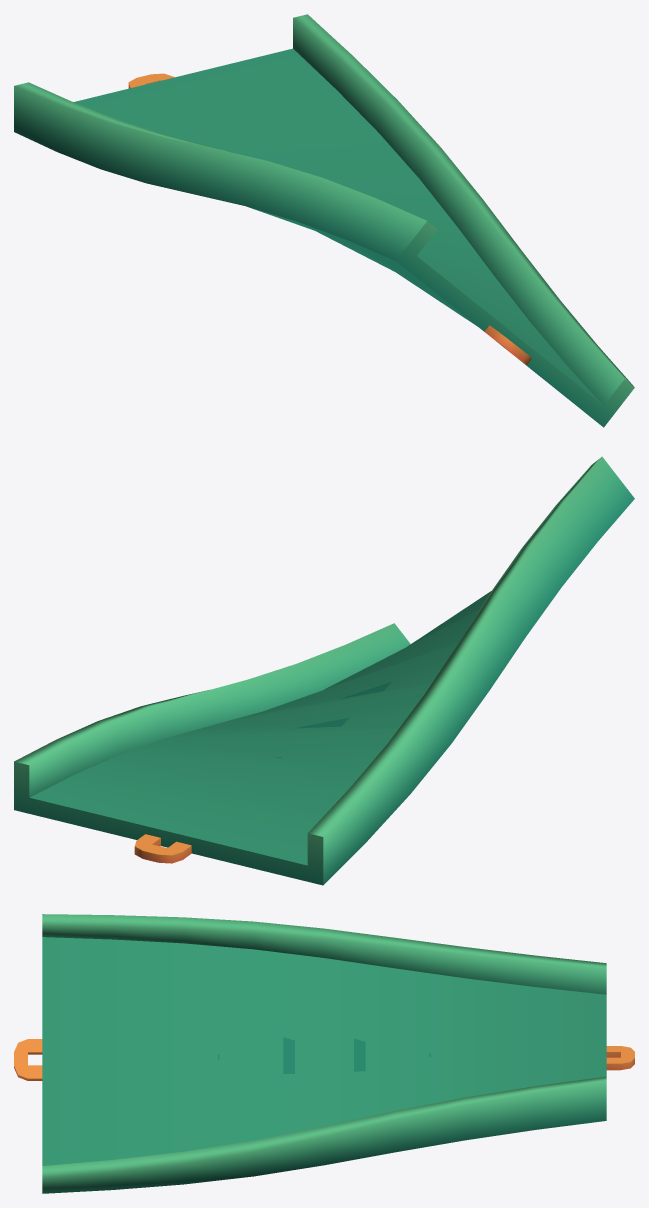
Rendered from track-wide-straight-skew-left.fbx.
3 views of the same model, one above another, from view 1: azimuth 30°, elevation 25°; view 2: azimuth 150°, elevation 25°; view 3: azimuth 270°, elevation 25° (orthographic). The views are drawn at different scales.
Parts seen in each view (by area): view 1: track-wide-straight-skew-left; view 2: track-wide-straight-skew-left; view 3: track-wide-straight-skew-left.
Part boxes in pixels (box(x1,y1,x2,y2)): track-wide-straight-skew-left: box(14, 14, 634, 427); track-wide-straight-skew-left: box(14, 456, 634, 885); track-wide-straight-skew-left: box(14, 914, 634, 1193).
Size of the model in its own units: 204 by 163 by 440.
